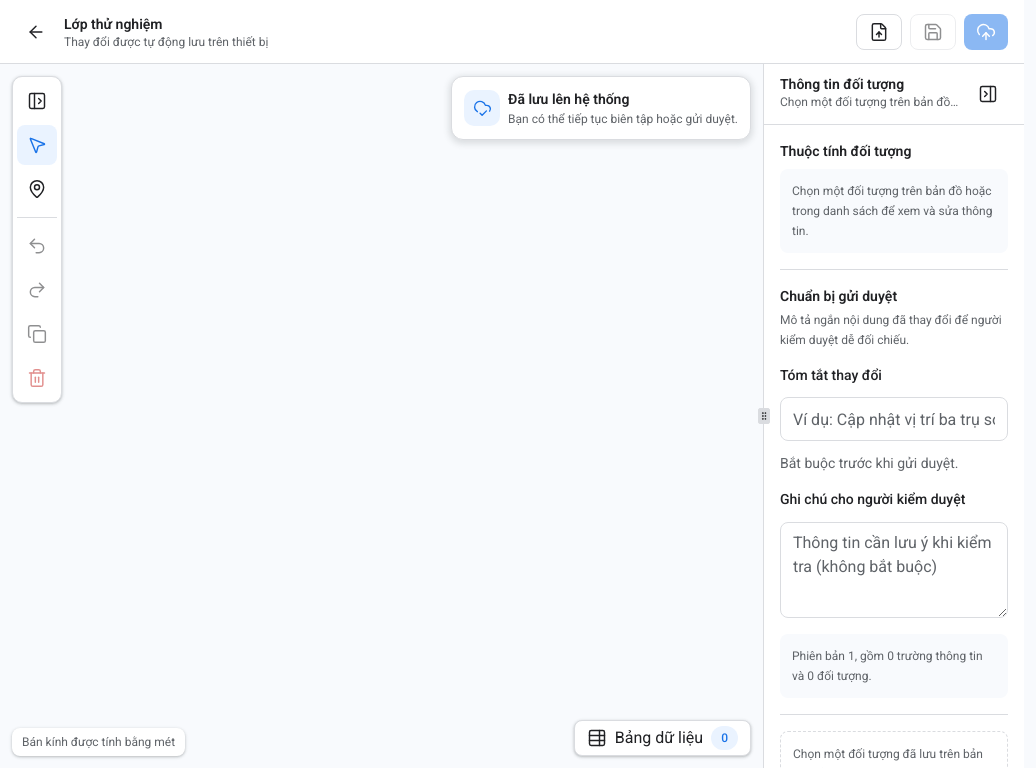
Scenario: LayerEditor desktop-only authoring › keeps the object list closed by default and can toggle it from the map
Expected: the navigation bar named "Công cụ vẽ" is shown, x1=12 y1=76 x2=62 y2=403
Click the button named "Mở danh sách đối tượng" at (37, 101), box x1=17 y1=81 x2=57 y2=121
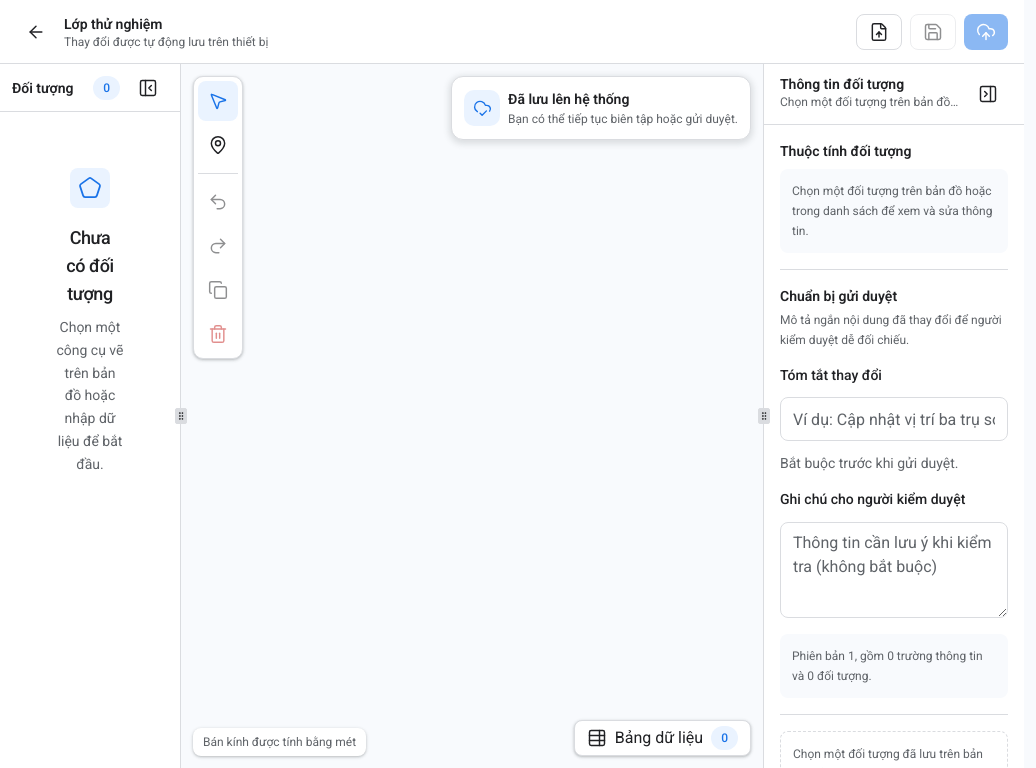
Expected: the element with test id "feature-list" is shown, x1=0 y1=64 x2=180 y2=767
Click the button named "Thu gọn danh sách đối tượng" at (148, 88), box x1=128 y1=68 x2=168 y2=108
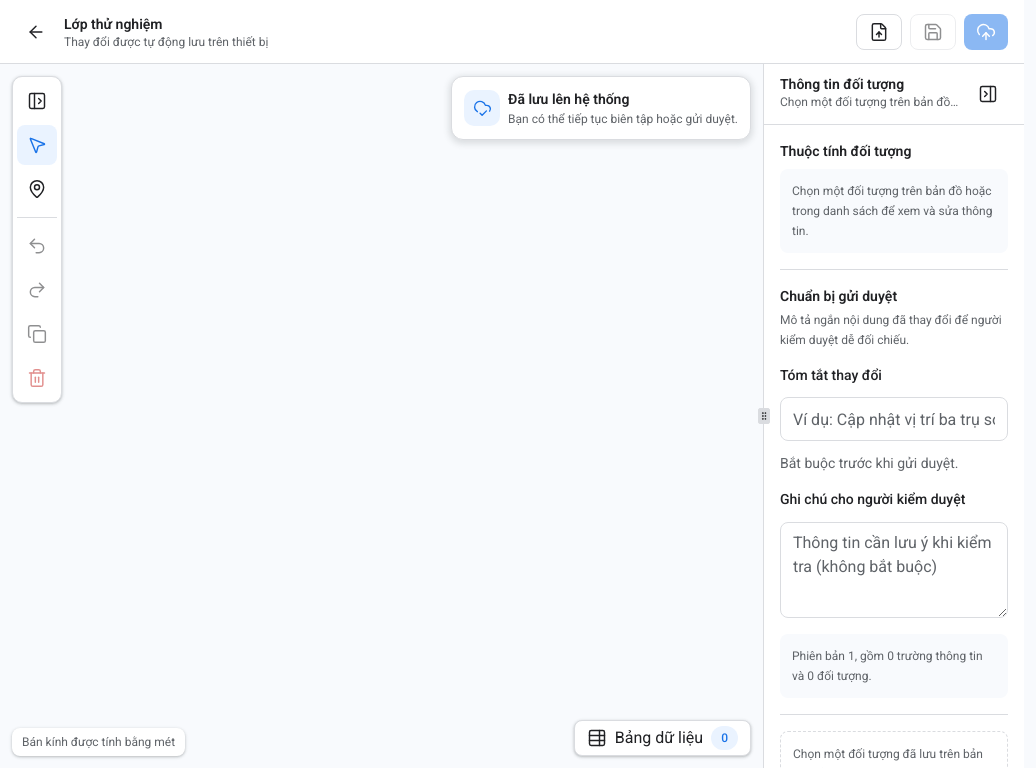
Expected: the element with test id "feature-list" is gone
